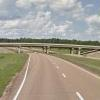Bridge: (7, 31, 95, 63)
